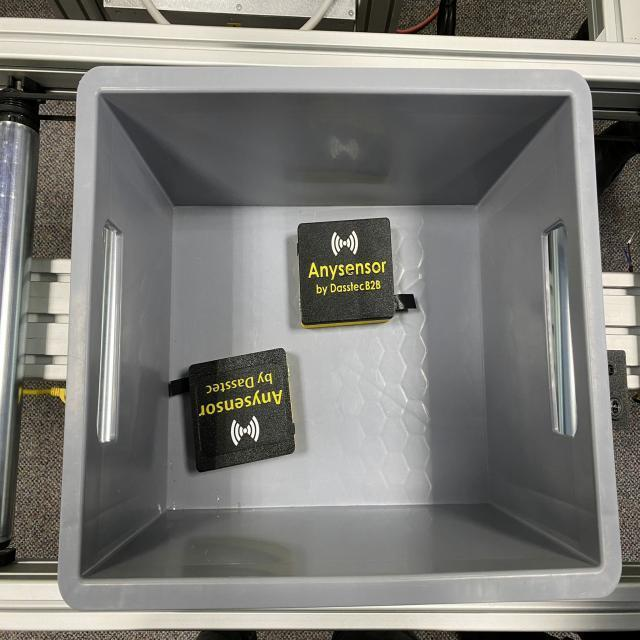box: (186, 348, 296, 477), (296, 217, 396, 326)
